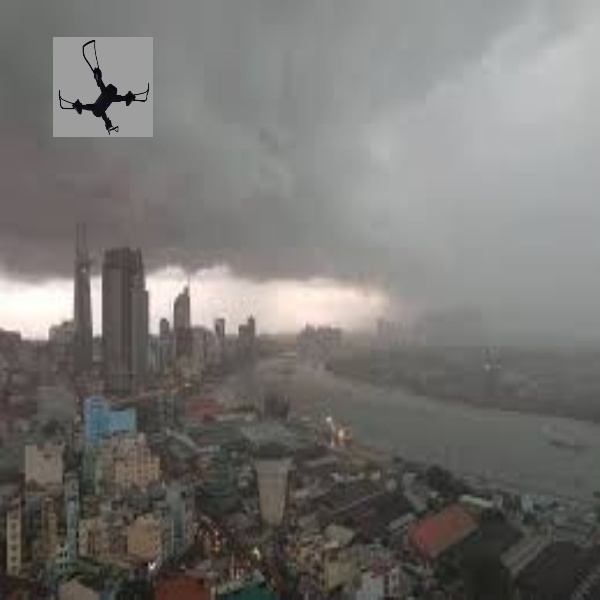drone: (54, 33, 153, 139)
